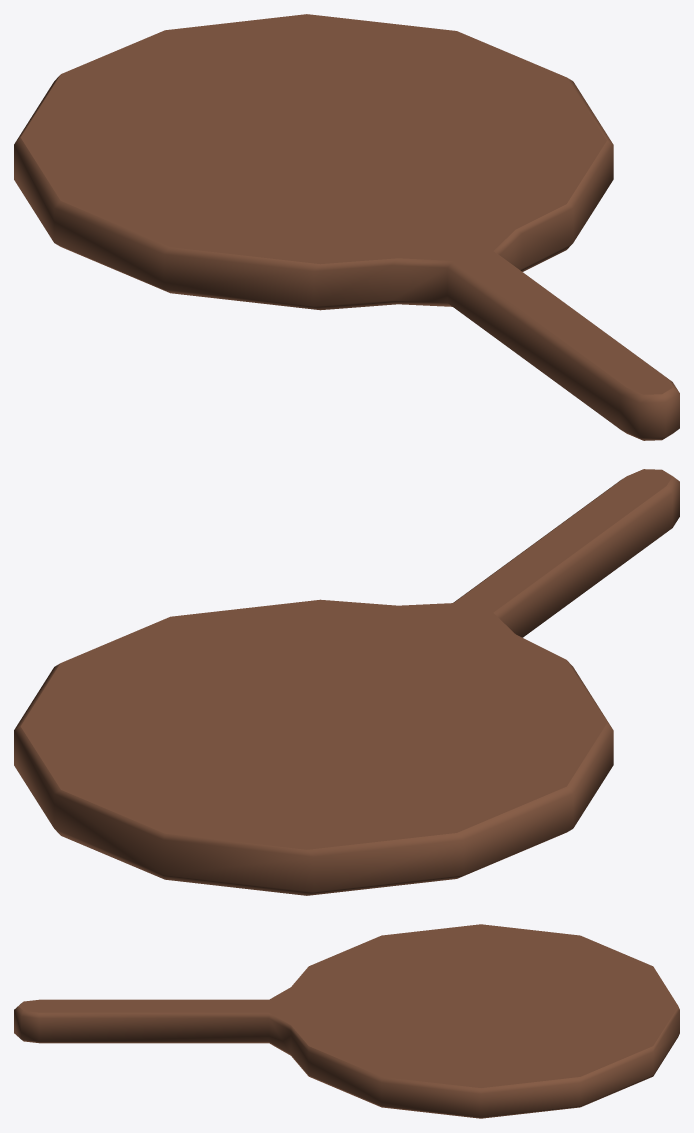
The model's file is SuportePizza.fbx.
3 renders of one model, top to bottom at view 1: azimuth 30°, elevation 25°; view 2: azimuth 150°, elevation 25°; view 3: azimuth 270°, elevation 25°, orthographic. The views are drawn at different scales.
Parts seen in each view (by area): view 1: SuportePizza; view 2: SuportePizza; view 3: SuportePizza.
Boxes of the visible parts, left/top/right/bottom form: SuportePizza: left=14, top=14, right=679, bottom=440; SuportePizza: left=14, top=469, right=679, bottom=895; SuportePizza: left=14, top=924, right=679, bottom=1118.
Size of the model in its own units: 132 by 11.22 by 222.
